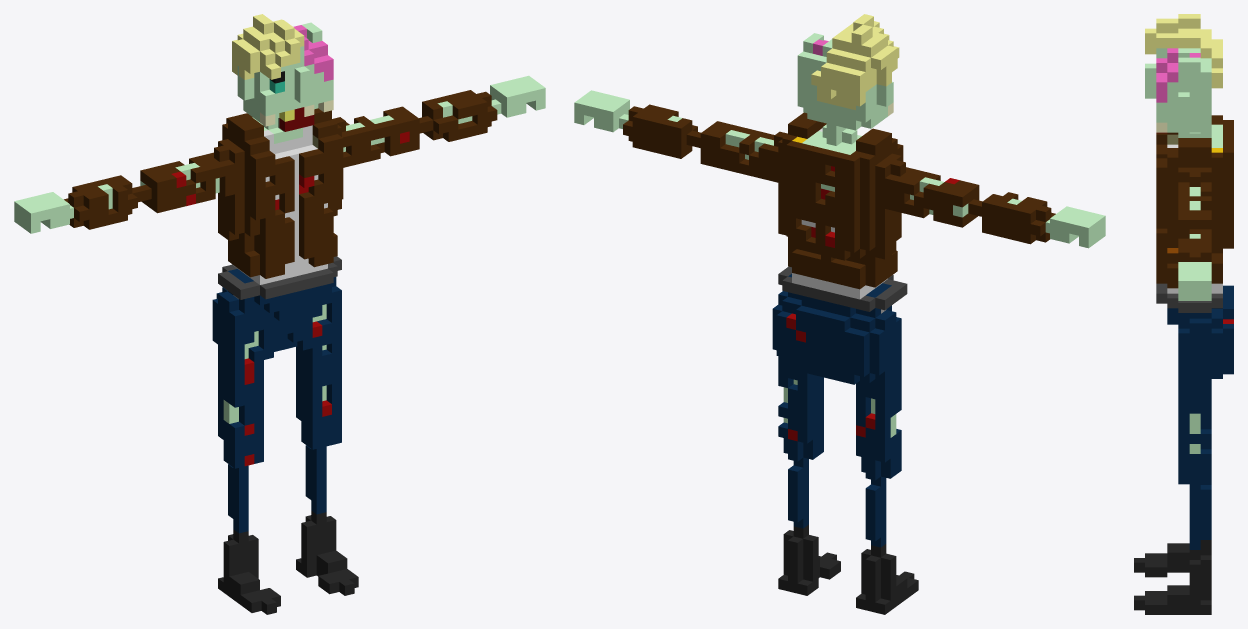
File: zombie_city.obj
The picture shows the model from 3 angles, left to right: view 1: azimuth 30°, elevation 25°; view 2: azimuth 150°, elevation 25°; view 3: azimuth 270°, elevation 25°; orthographic projection.
Bounding box in the file's own units: 5.3 × 5.6 × 0.9.
1 material, 1 textured.
